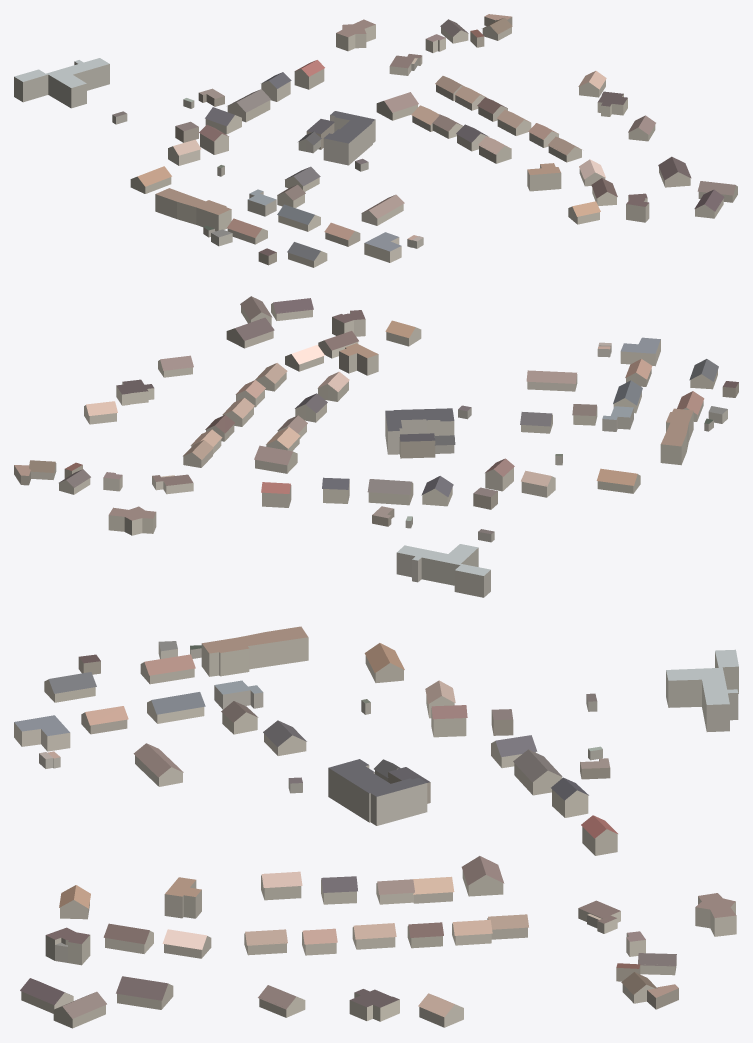
3 renders of one model, top to bottom at view 1: azimuth 30°, elevation 25°; view 2: azimuth 150°, elevation 25°; view 3: azimuth 270°, elevation 25°, orthographic. The views are drawn at different scales.
Visible parts, largest first — view 1: tuile; view 2: tuile; view 3: tuile.
Part boxes in pixels (x1,y1,x2,y2): tuile: [14, 14, 737, 267]; tuile: [14, 296, 738, 597]; tuile: [14, 626, 738, 1028].
Size of the model in its own units: 258 by 28.8 by 241.
